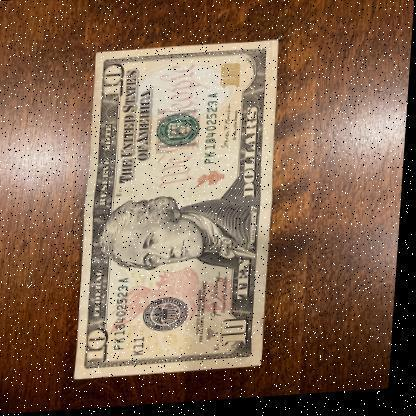ten-front: (80, 41, 284, 380)
